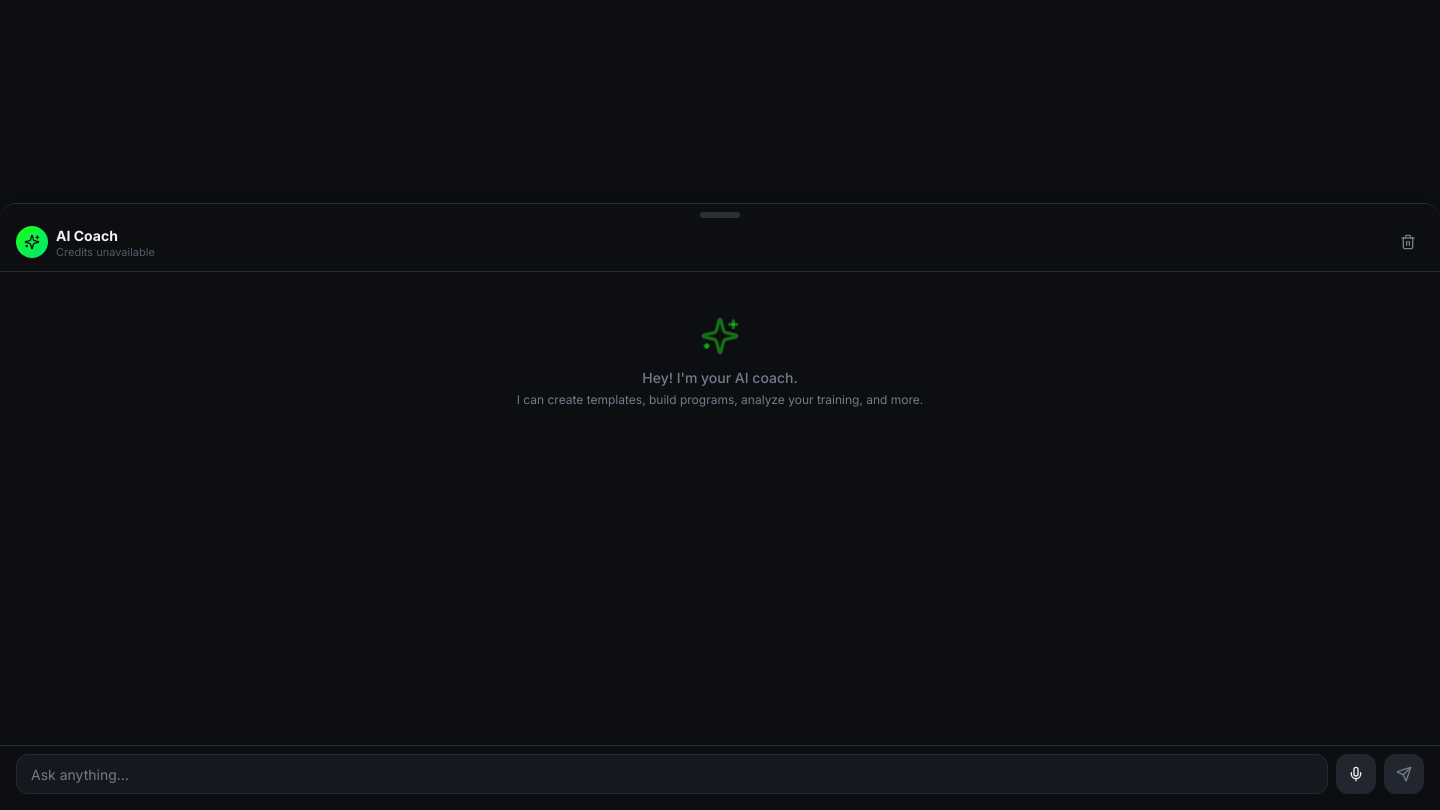
AI coach voice input › keeps the phrase in flight when the browser ends the session under it
What coordinates should you click on to do the following:
click the button named "Start voice input"
I would click on:
 (1356, 774)
Its box is [1336,754,1376,794].
Wait 1800 ms
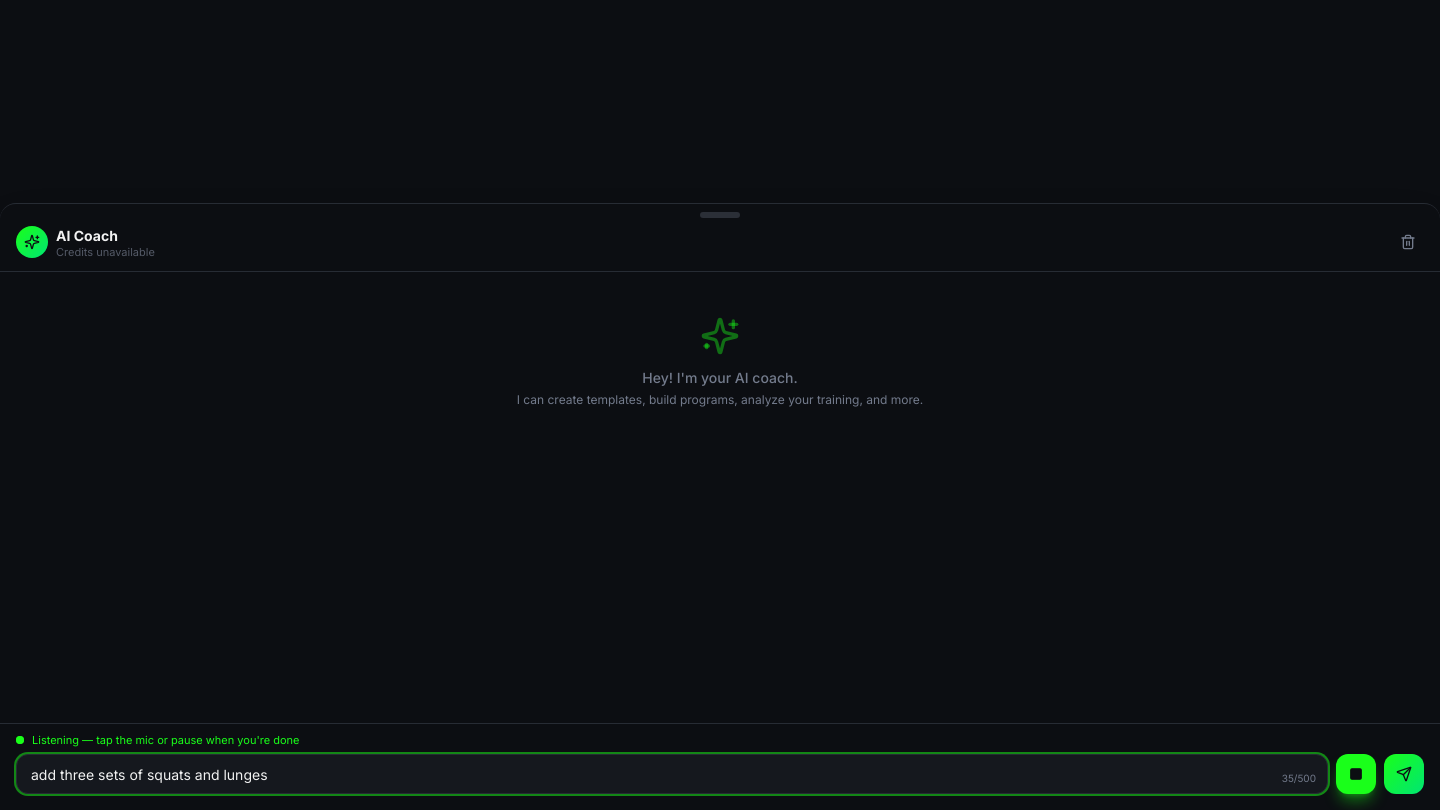
Expected: the text box holds "add three sets of squats and lunges", [16,754,1328,794]
